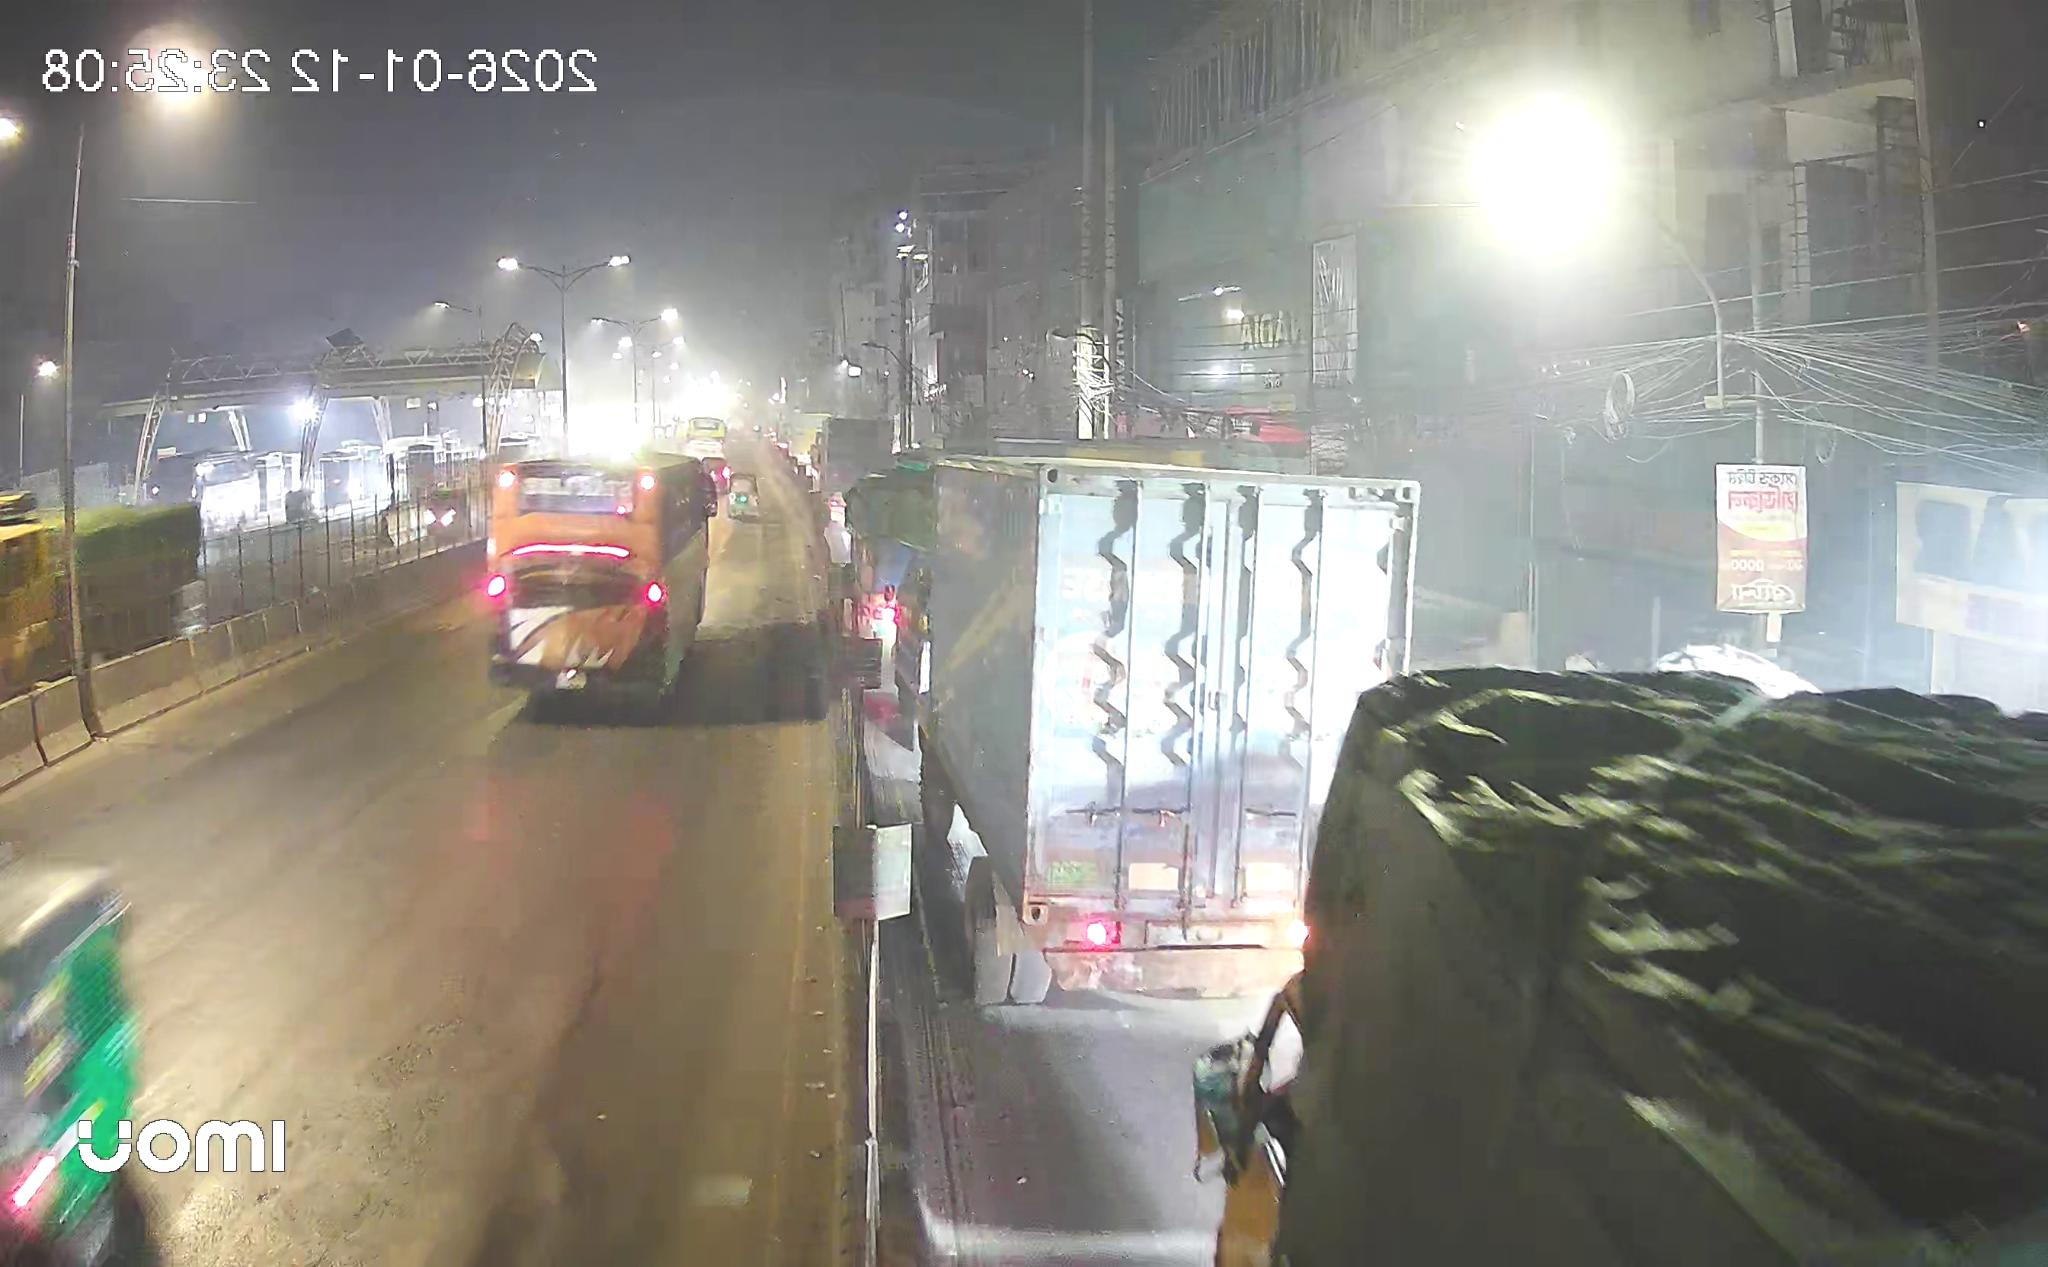Bus: (484, 451, 718, 715)
CNG-Tempo: (1, 859, 154, 1267)
Truck: (1198, 669, 2048, 1267), (900, 456, 1420, 1005), (76, 503, 203, 658), (1, 492, 73, 698)
